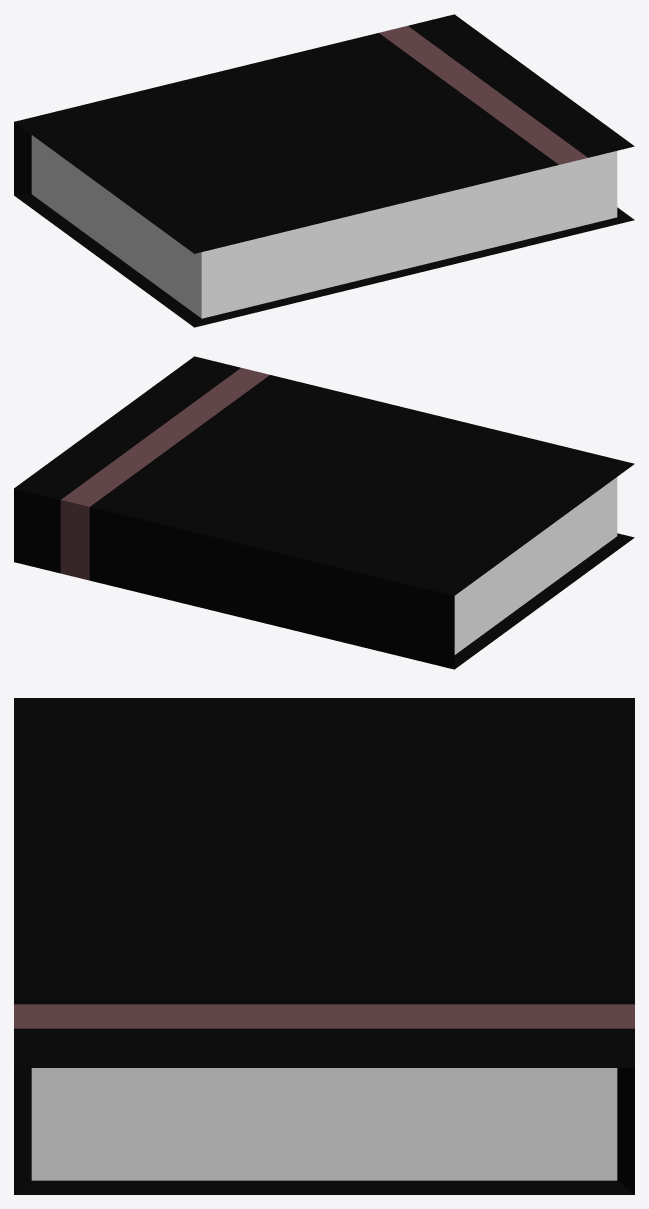
Rendered from book 1.fbx.
3 views of the same model, one above another, from view 1: azimuth 30°, elevation 25°; view 2: azimuth 150°, elevation 25°; view 3: azimuth 270°, elevation 25° (orthographic). The views are drawn at different scales.
Parts seen in each view (by area): view 1: polySurface1240; view 2: polySurface1240; view 3: polySurface1240.
Part boxes in pixels (left/top/right/bottom): polySurface1240: left=14, top=14, right=634, bottom=327; polySurface1240: left=14, top=356, right=634, bottom=669; polySurface1240: left=14, top=698, right=634, bottom=1194.
Bounding box in the file's own units: 1054 × 169 × 748.
